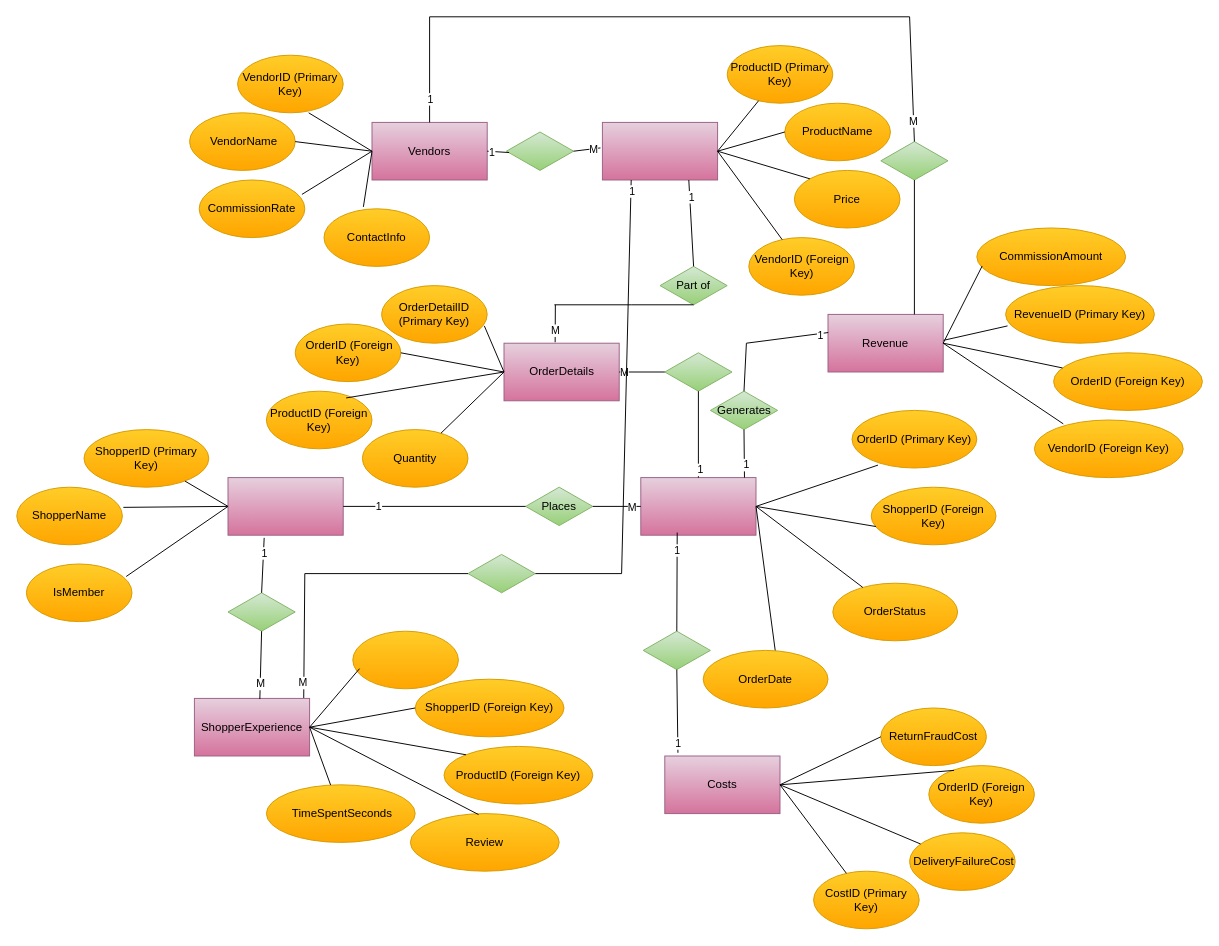
The diagram is 1219 pixels wide and 946 high, and some of its shapes have lost their labels. The box of each missing label's shape, as (x1, y1, x2, y2) in pixels:
Contains: (664, 352, 732, 391)
Earns: (880, 141, 948, 180)
ExperienceID (Primary Key): (352, 630, 458, 689)
Incurred: (642, 630, 710, 670)
Orders: (640, 477, 756, 535)
Products: (601, 121, 718, 180)
Reviewed: (467, 553, 535, 593)
Shoppers: (227, 477, 343, 535)
Supplies: (505, 131, 574, 170)
Writes: (227, 592, 295, 631)
